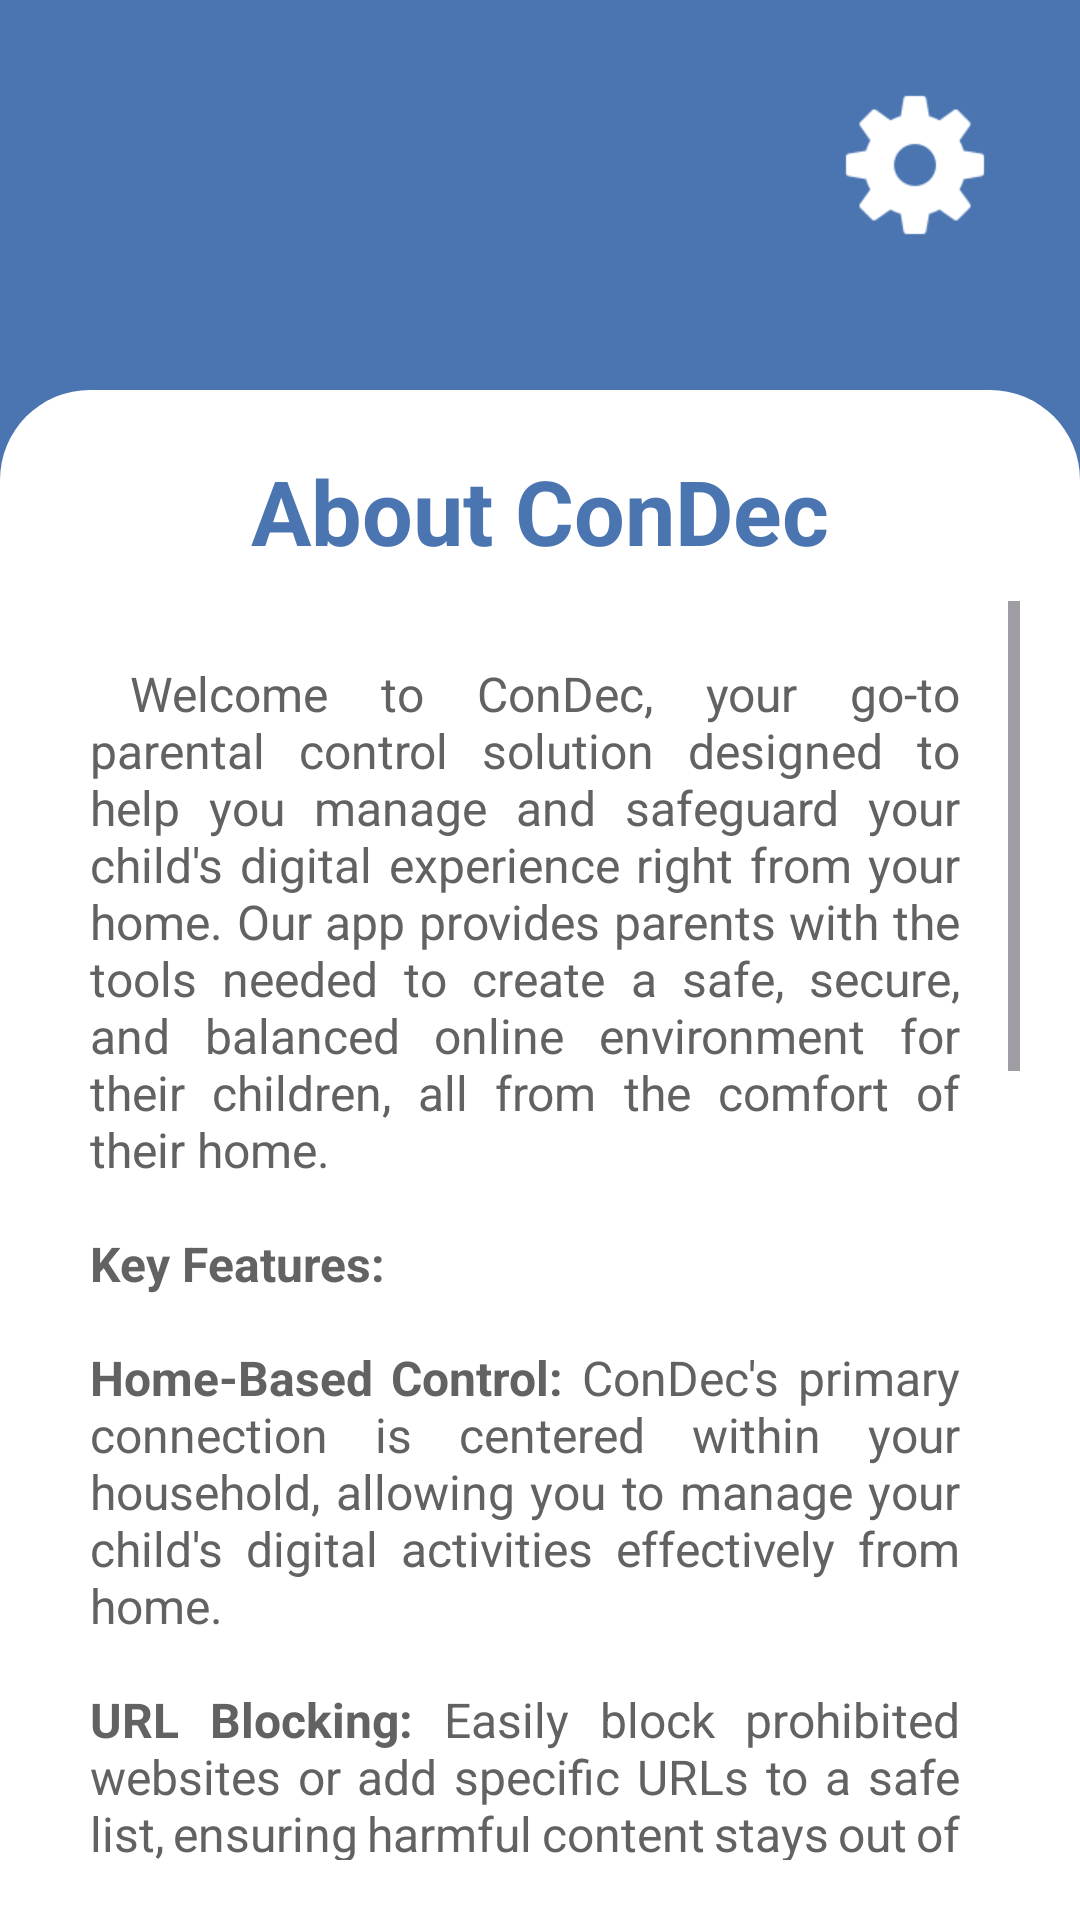

Icon bounding boxes for this 1080w x 1920h phone screenshot, format (x1, y1, x2, y2):
settings: (845, 95, 985, 235)
